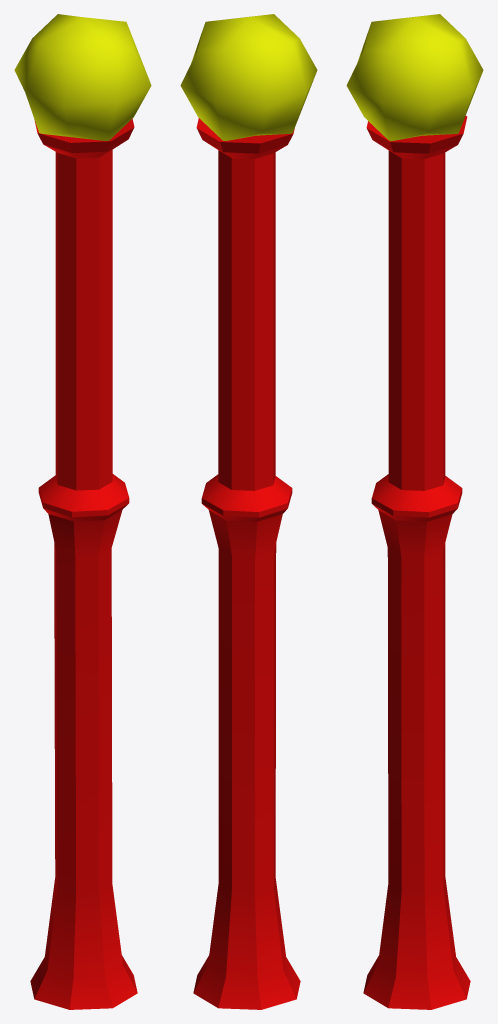
Rendered from Lantern.fbx.
The picture shows the model from 3 angles, left to right: view 1: azimuth 30°, elevation 25°; view 2: azimuth 150°, elevation 25°; view 3: azimuth 330°, elevation 25°; orthographic projection.
Parts seen in each view (by area): view 1: pCube201, pCube202; view 2: pCube201, pCube202; view 3: pCube201, pCube202.
Boxes of the visible parts, bbox=[...] form: pCube201: bbox=[30, 119, 137, 1009]; pCube202: bbox=[14, 14, 151, 140]; pCube201: bbox=[193, 118, 300, 1009]; pCube202: bbox=[180, 14, 317, 140]; pCube201: bbox=[363, 116, 470, 1009]; pCube202: bbox=[346, 14, 483, 141].
Bounding box in the file's own units: 3.21 × 25.65 × 3.21.
